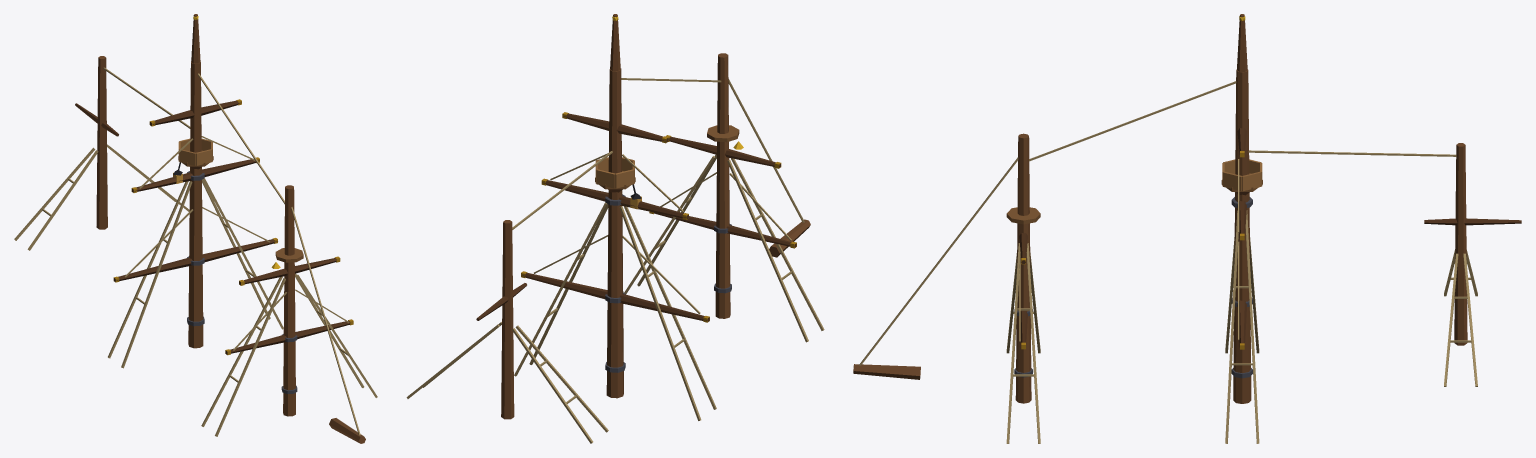
Rendered from Decor_PirateShip_Masts.fbx.
The picture shows the model from 3 angles, left to right: view 1: azimuth 30°, elevation 25°; view 2: azimuth 150°, elevation 25°; view 3: azimuth 270°, elevation 25°; orthographic projection. The views are drawn at different scales.
Parts seen in each view (by area): view 1: Masts_Body; view 2: Masts_Body; view 3: Masts_Body.
Boxes of the visible parts, left/top/right/bottom form: Masts_Body: left=14, top=14, right=377, bottom=443; Masts_Body: left=406, top=14, right=824, bottom=443; Masts_Body: left=853, top=14, right=1521, bottom=443.
Bounding box in the file's own units: 18 × 35 × 55.
